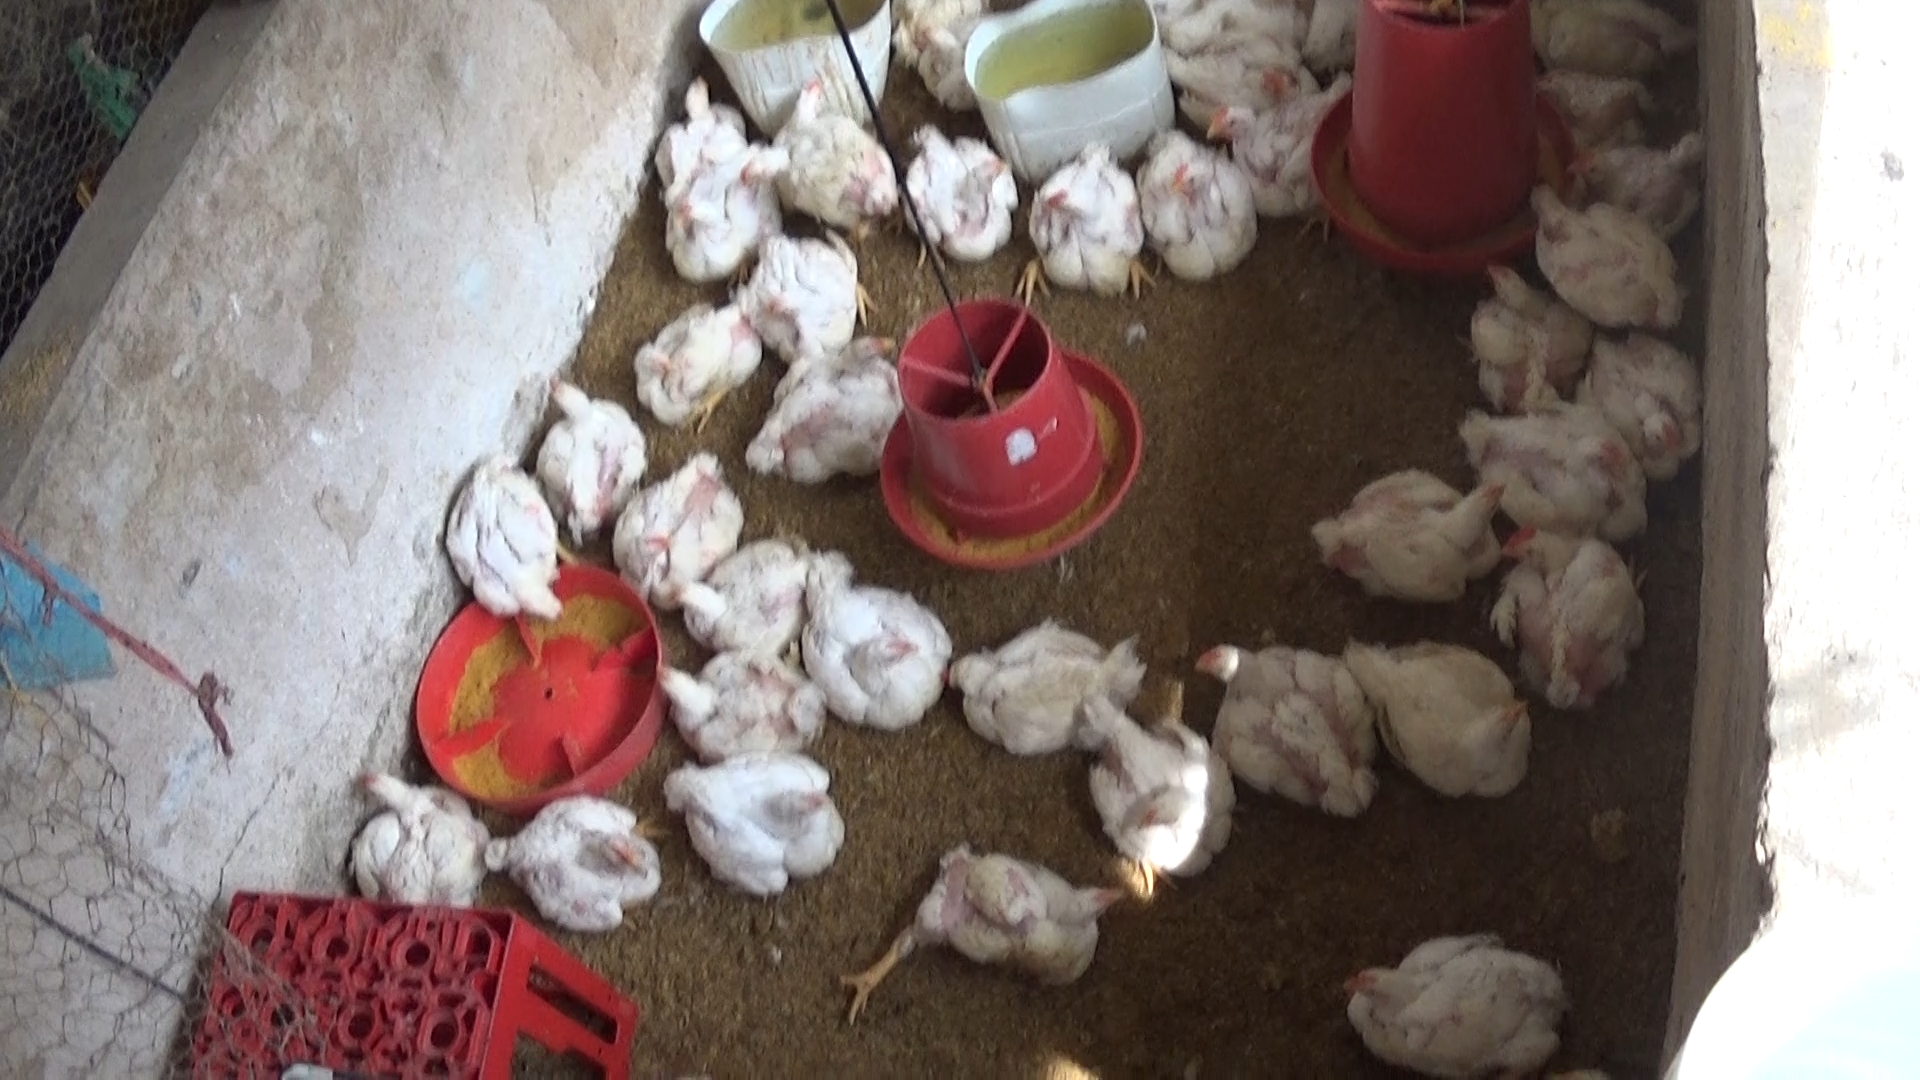Pollos: (837, 857, 1135, 1021), (1335, 924, 1571, 1073), (1185, 633, 1367, 822), (1499, 513, 1656, 727), (1352, 640, 1545, 807), (1516, 164, 1687, 345), (915, 622, 1145, 757), (1323, 456, 1505, 615), (426, 431, 564, 632), (1073, 694, 1222, 880), (669, 746, 847, 895), (1468, 388, 1640, 541), (793, 567, 947, 732), (320, 773, 498, 907), (1211, 78, 1350, 247), (498, 798, 669, 934), (742, 327, 890, 483), (1461, 257, 1594, 429), (671, 522, 843, 653), (1010, 142, 1150, 302), (655, 640, 831, 764), (521, 359, 634, 541), (1134, 129, 1261, 270), (1588, 332, 1708, 479), (777, 70, 889, 225), (611, 456, 736, 593), (634, 301, 760, 436), (659, 98, 748, 286), (905, 113, 1011, 262), (735, 225, 855, 352), (1604, 121, 1712, 247), (709, 127, 804, 229)
